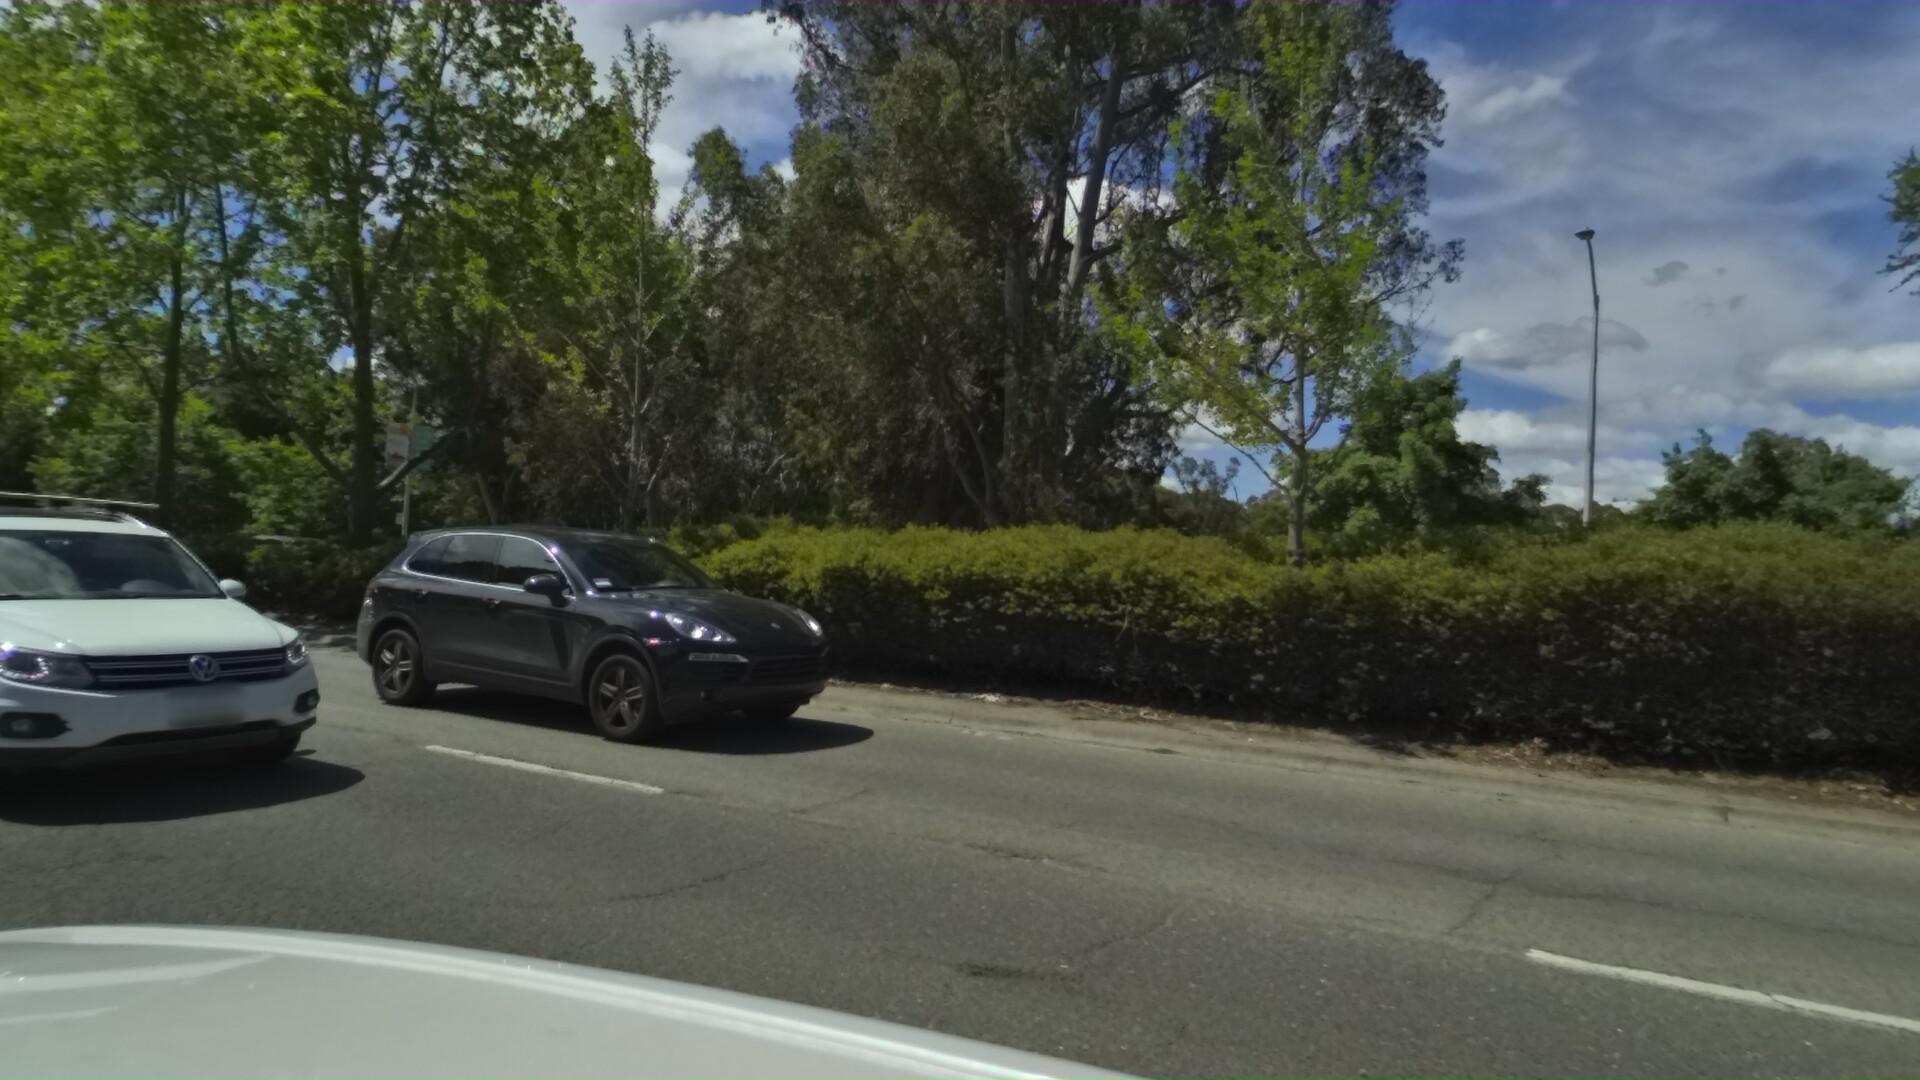car: (0, 459, 373, 836), (334, 505, 878, 760)
